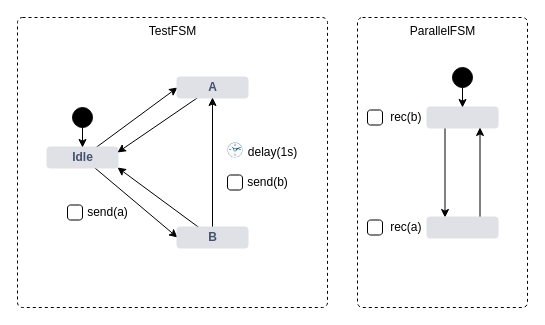
The diagram is 545 pixels wide and 325 high, and some of its shapes have lost their labels. Here are the shapes that lost their labels. From the top down, the box of each, then its label:
(426, 106, 498, 128): OFF
(426, 216, 498, 238): ON
